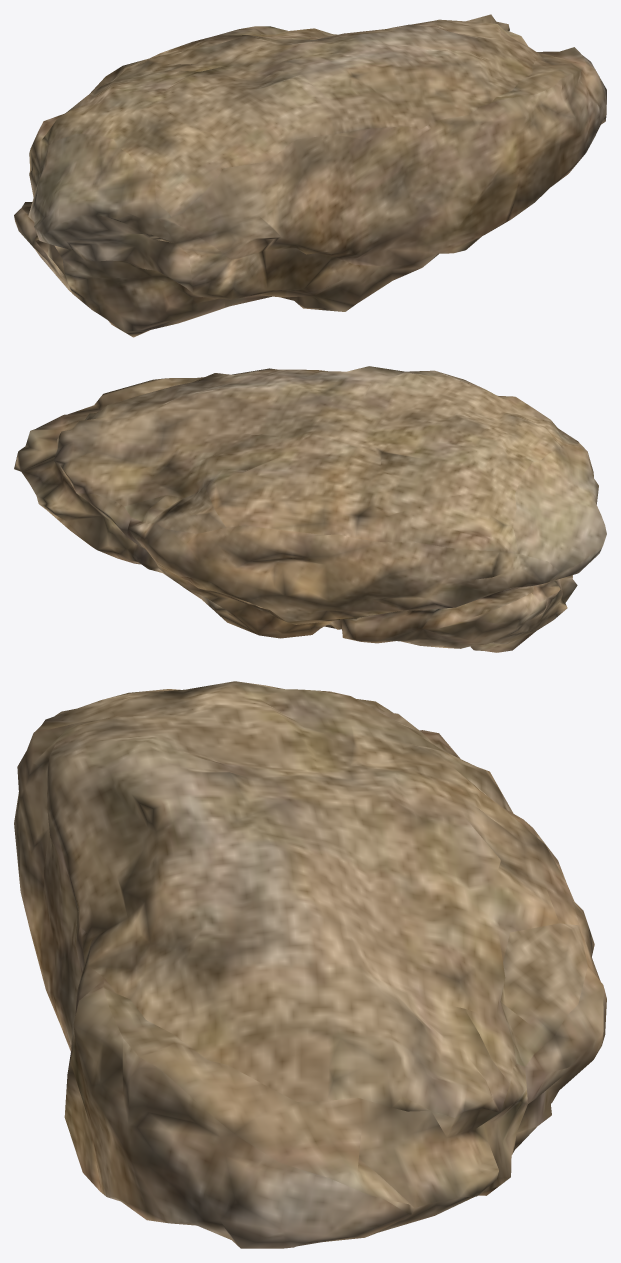
Rendered from boulder_05.glb.
The picture shows the model from 3 angles, top to bottom: view 1: azimuth 30°, elevation 25°; view 2: azimuth 150°, elevation 25°; view 3: azimuth 270°, elevation 25°; orthographic projection. The views are drawn at different scales.
Visible parts, largest first — view 1: namaqualand_boulder_05; view 2: namaqualand_boulder_05; view 3: namaqualand_boulder_05.
Boxes of the visible parts, x1=… form: namaqualand_boulder_05: x1=14, y1=14, x2=606, y2=337; namaqualand_boulder_05: x1=14, y1=366, x2=606, y2=652; namaqualand_boulder_05: x1=14, y1=681, x2=606, y2=1248.
Size of the model in its own units: 1.36 by 0.5337 by 0.7462.
Materials: 1 (1 with a texture image).
